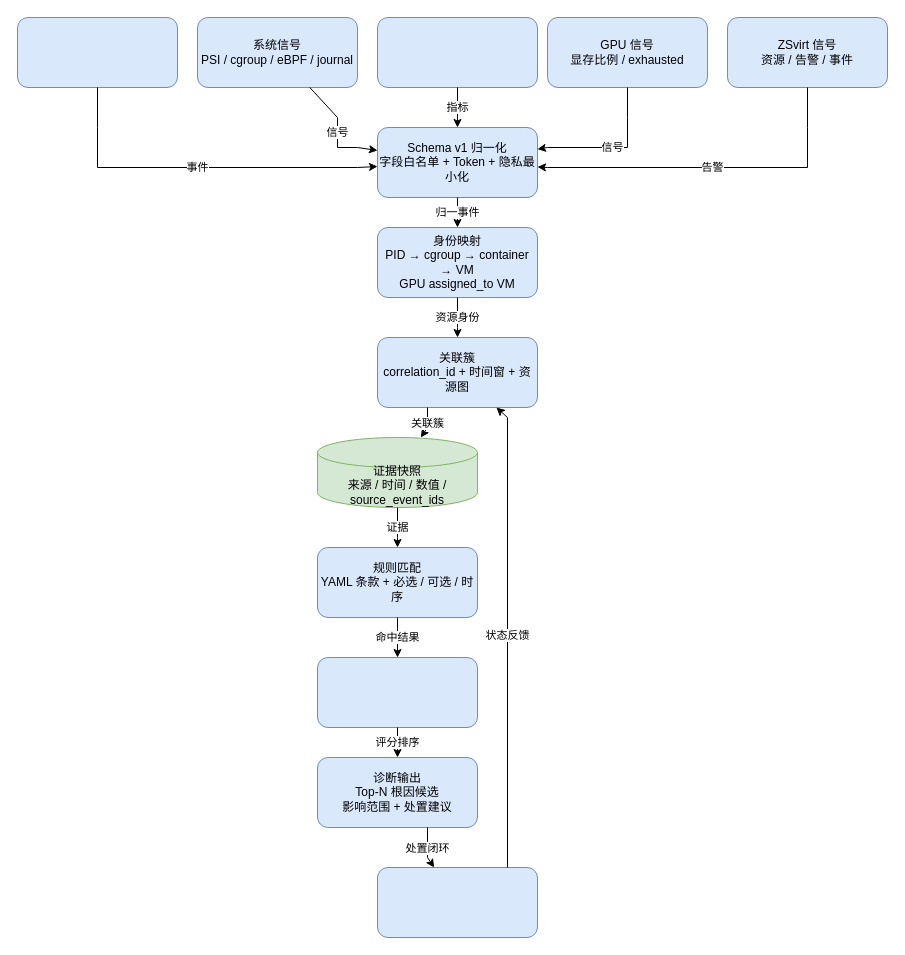
This 905x955 diagram has some shape labels left out. The centre of each missing label's shape, as x and y in pixels:
"Agent 任务事件 task_id / correlation_id tool.result / task.failed" goes at (x=97, y=52).
"Evidence Match 规则命中 55 时序 15 / 邻接 10 / 强度 10 / 独立性 10" goes at (x=397, y=692).
"告警运营 确认 / 静默 / 恢复 每 IP 限流" goes at (x=457, y=902).
"指标信号 Prometheus / cAdvisor / llama" goes at (x=457, y=52).
